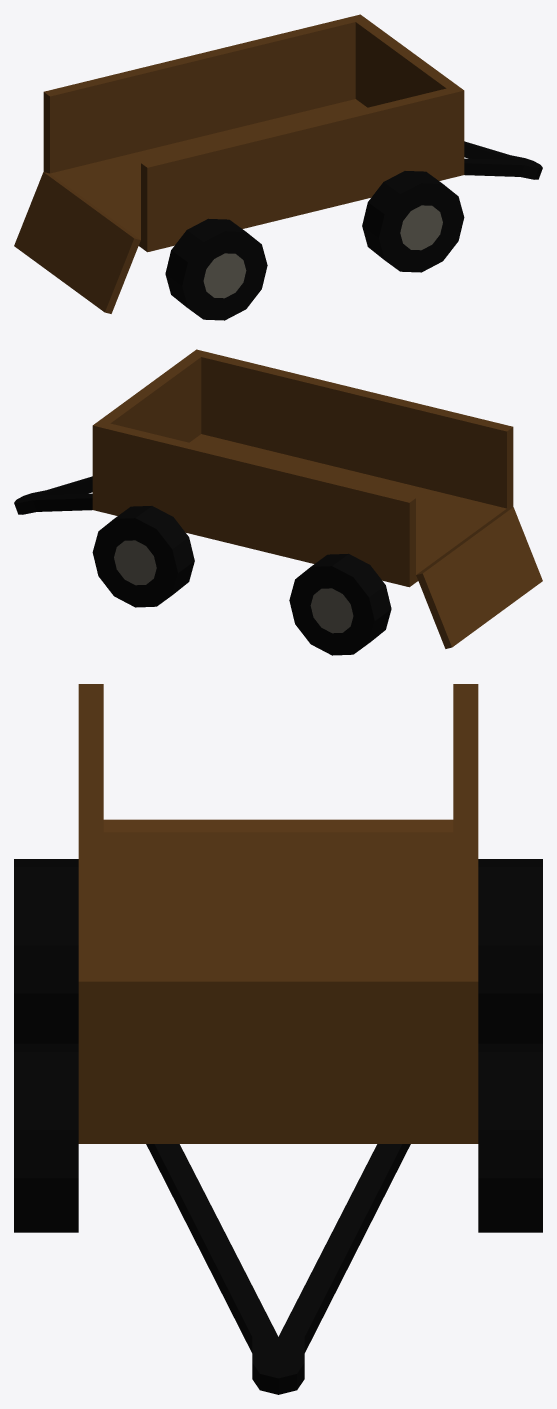
File: FarmTracktorTrailer.fbx
The picture shows the model from 3 angles, top to bottom: view 1: azimuth 30°, elevation 25°; view 2: azimuth 150°, elevation 25°; view 3: azimuth 270°, elevation 25°; orthographic projection. The views are drawn at different scales.
Parts seen in each view (by area): view 1: FarmTracktorTrailer; view 2: FarmTracktorTrailer; view 3: FarmTracktorTrailer.
Boxes of the visible parts, x1,y1,x2,y2 form: FarmTracktorTrailer: (14, 14, 542, 320); FarmTracktorTrailer: (14, 349, 542, 655); FarmTracktorTrailer: (14, 684, 542, 1394).
Bounding box in the file's own units: 0.5893 × 0.1815 × 0.2916.
